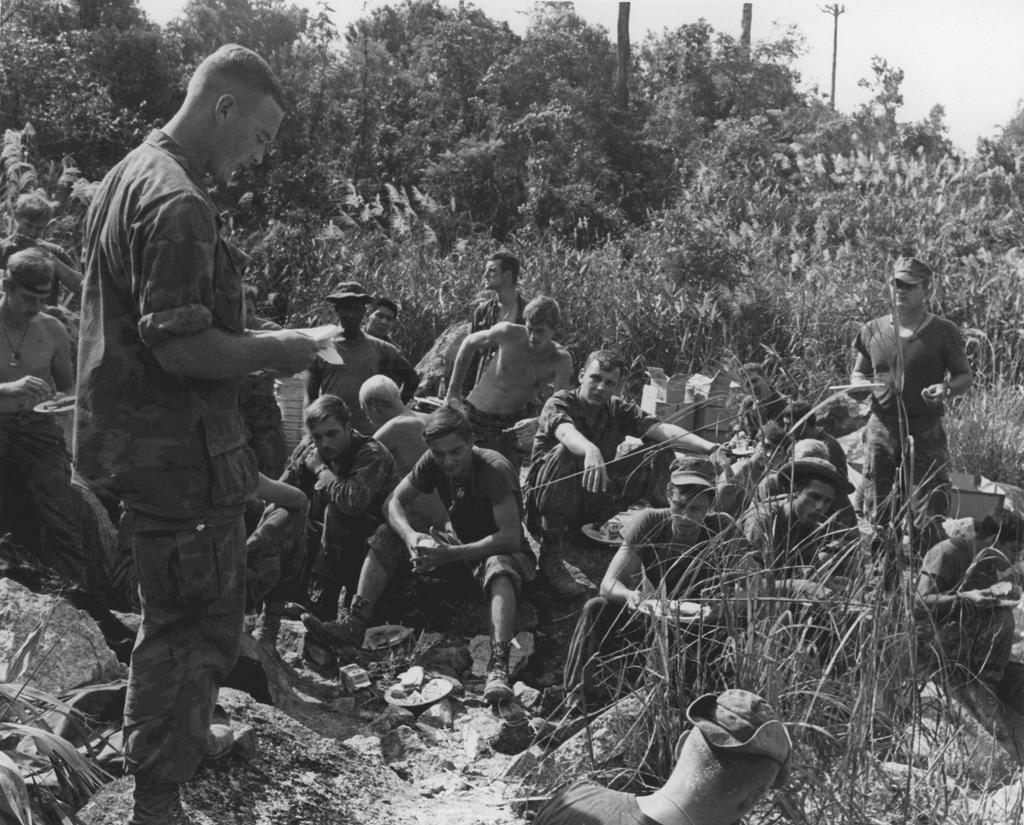Person: (0, 43, 1024, 825)
